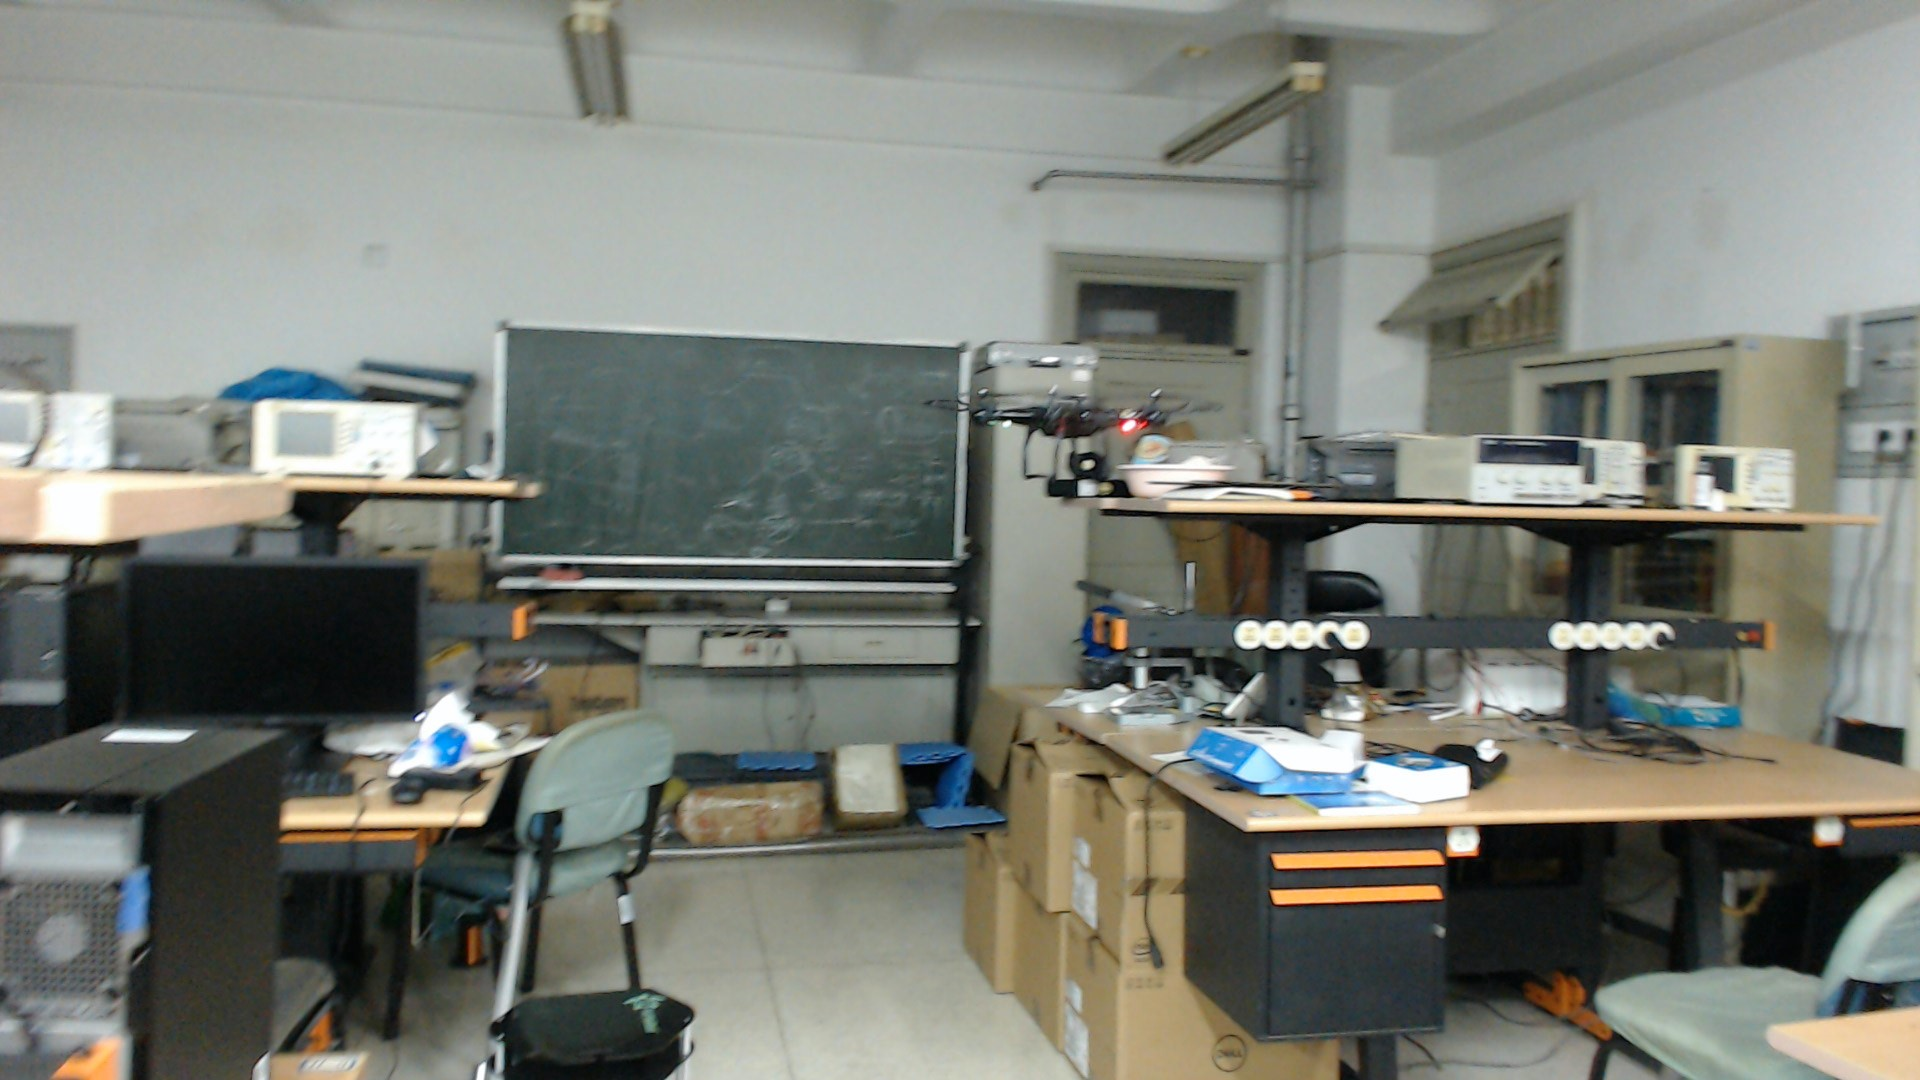test_drone: (915, 377, 1185, 501)
